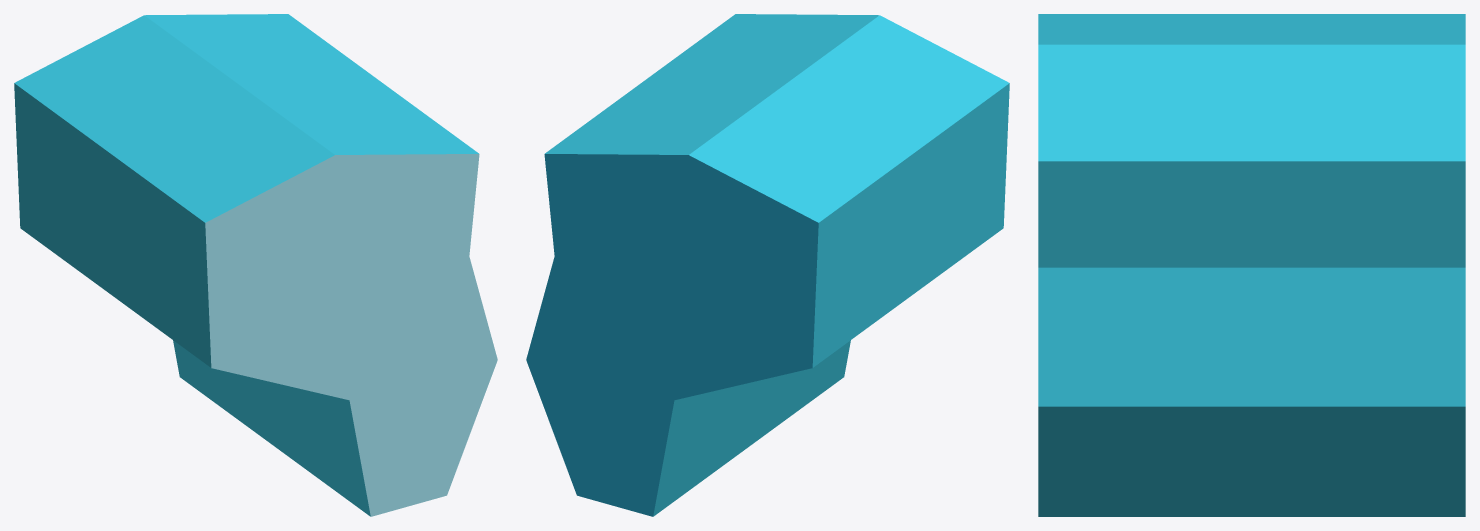
File: D_FBX_07_DesT_Wall_11.fbx
3 views of the same model, side by side, from view 1: azimuth 30°, elevation 25°; view 2: azimuth 150°, elevation 25°; view 3: azimuth 270°, elevation 25° (orthographic). The views are drawn at different scales.
Visible parts, largest first — view 1: D_FBX_07_DesT_Wall_11; view 2: D_FBX_07_DesT_Wall_11; view 3: D_FBX_07_DesT_Wall_11.
Boxes of the visible parts, <box> form: D_FBX_07_DesT_Wall_11: <box>14,14,497,516</box>; D_FBX_07_DesT_Wall_11: <box>526,14,1009,516</box>; D_FBX_07_DesT_Wall_11: <box>1038,14,1465,516</box>.
Bounding box in the file's own units: 99.43 × 120 × 112.
